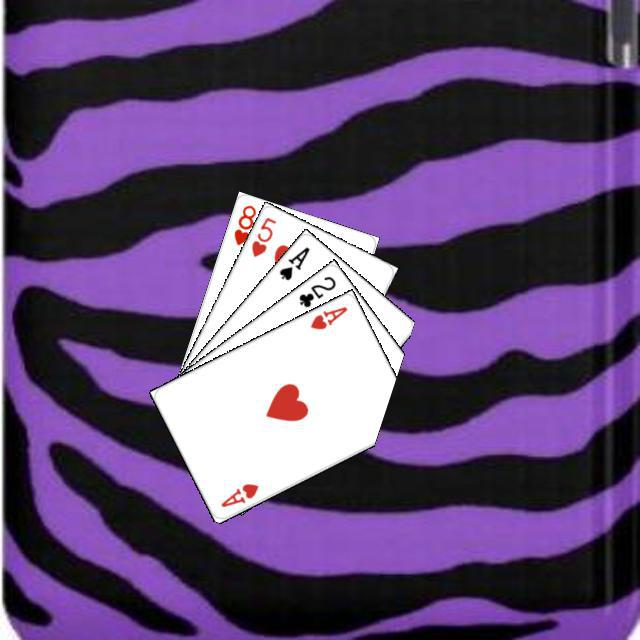2c: (294, 271, 338, 309)
5h: (246, 212, 278, 259)
8h: (229, 200, 258, 247)
Ah: (216, 478, 260, 509), (305, 301, 349, 331)
As: (274, 242, 312, 282)
